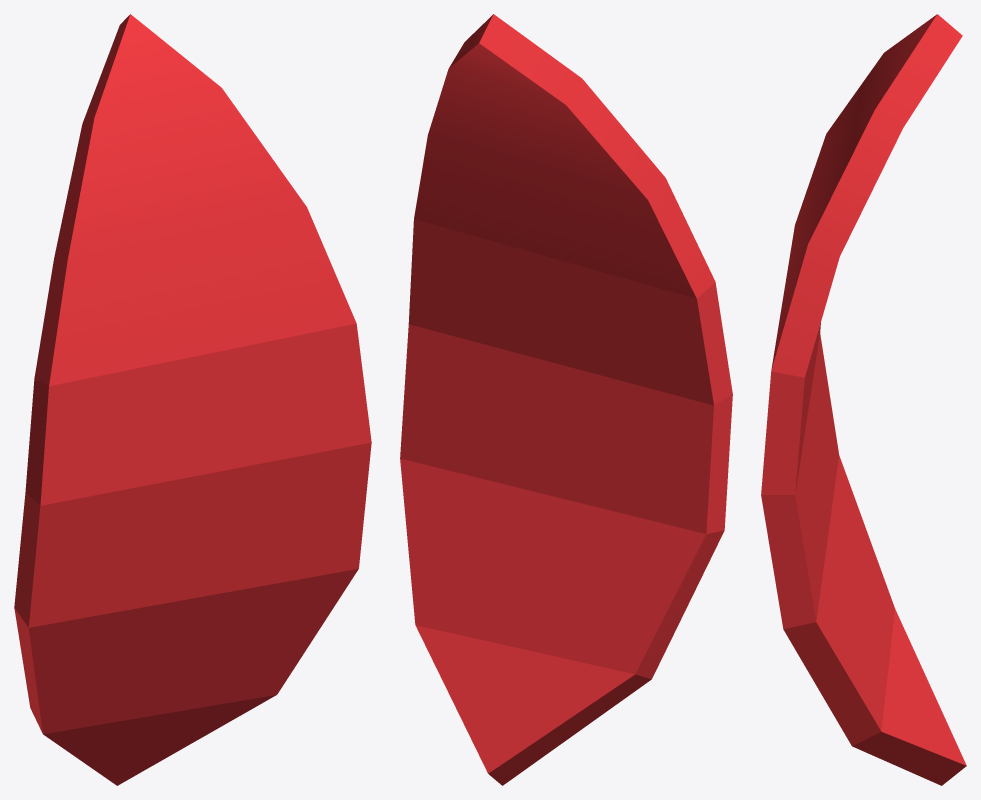
Rendered from particle01N.fbx.
3 views of the same model, side by side, from view 1: azimuth 30°, elevation 25°; view 2: azimuth 150°, elevation 25°; view 3: azimuth 270°, elevation 25° (orthographic).
Parts seen in each view (by area): view 1: particle01N; view 2: particle01N; view 3: particle01N.
Part boxes in pixels (x1=…): particle01N: x1=14, y1=14, x2=371, y2=785; particle01N: x1=400, y1=14, x2=732, y2=785; particle01N: x1=761, y1=14, x2=966, y2=785.
Bounding box in the file's own units: 0.3045 × 0.6952 × 0.1668.
